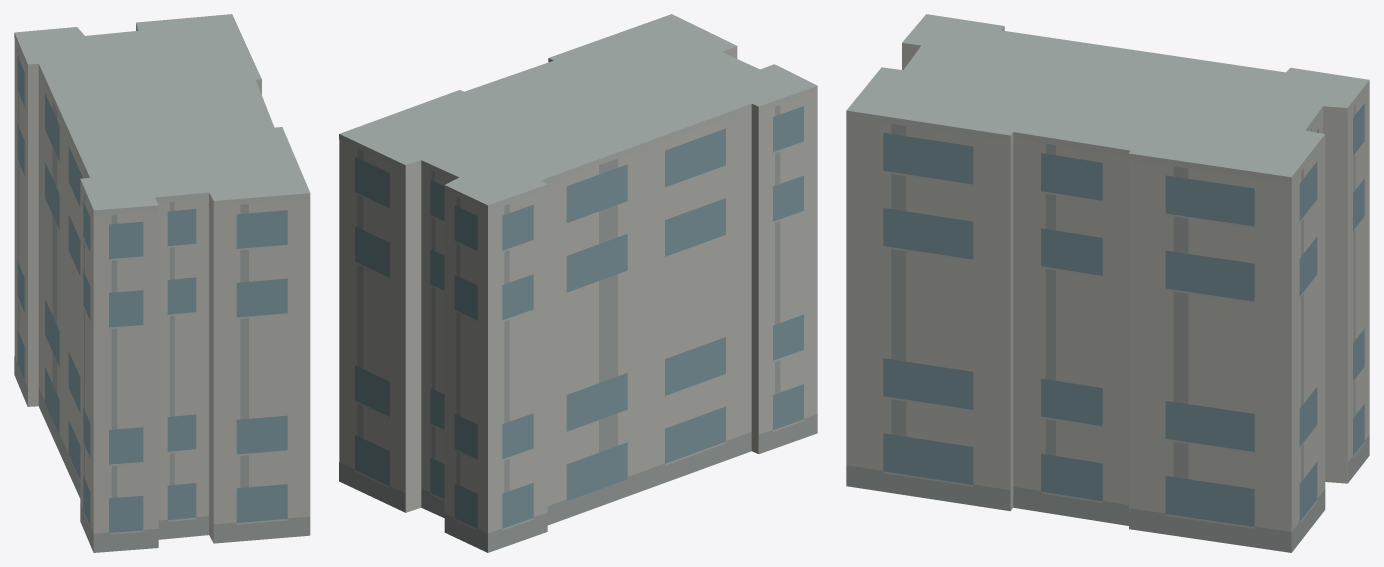
Rendered from survey-upis-32880521.glb.
3 views of the same model, side by side, from view 1: azimuth 30°, elevation 25°; view 2: azimuth 150°, elevation 25°; view 3: azimuth 270°, elevation 25° (orthographic). The views are drawn at different scales.
Parts seen in each view (by area): view 1: survey-upis-32880521.tmp; view 2: survey-upis-32880521.tmp; view 3: survey-upis-32880521.tmp.
Boxes of the visible parts, x1,y1,x2,y2 form: survey-upis-32880521.tmp: (14,14,310,552); survey-upis-32880521.tmp: (339,14,817,552); survey-upis-32880521.tmp: (846,14,1369,552).
Bounding box in the file's own units: 13.24 × 14.2 × 17.94.
